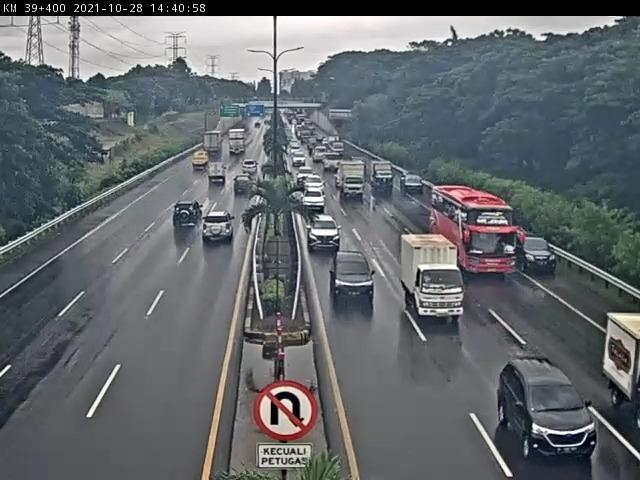bus: (429, 184, 521, 279)
car: (498, 358, 601, 461), (332, 250, 376, 302), (517, 234, 559, 273), (306, 216, 342, 251), (203, 211, 236, 244), (173, 200, 205, 231), (302, 187, 326, 212), (234, 174, 257, 198)
truck: (400, 235, 466, 323)
